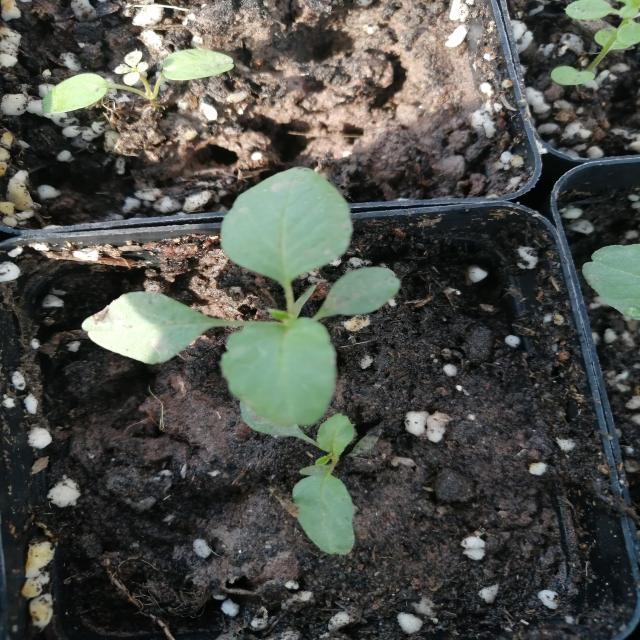pigweed: (139, 169, 420, 521)
